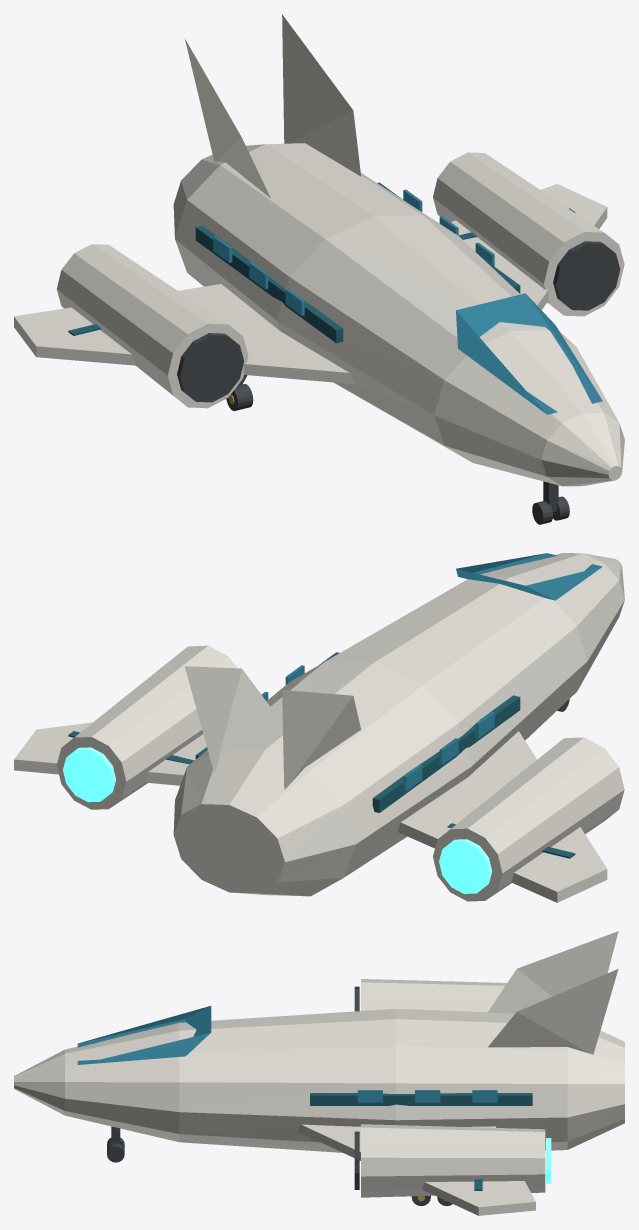
Rendered from Transport.glb.
3 renders of one model, top to bottom at view 1: azimuth 30°, elevation 25°; view 2: azimuth 150°, elevation 25°; view 3: azimuth 270°, elevation 25°, orthographic. The views are drawn at different scales.
Parts seen in each view (by area): view 1: GW Ivory, GW Metal, GW Glass Dark, GW Teal; view 2: GW Ivory, GW Light, GW Glass Dark, GW Teal; view 3: GW Ivory, GW Glass Dark, GW Teal, GW Metal.
Part boxes in pixels (x1,y1,x2,y2): GW Ivory: (14, 14, 624, 486); GW Metal: (177, 241, 620, 524); GW Glass Dark: (213, 189, 602, 414); GW Teal: (68, 182, 575, 343); GW Ivory: (14, 553, 624, 902); GW Light: (63, 747, 492, 893); GW Glass Dark: (261, 553, 602, 791); GW Teal: (68, 652, 575, 858); GW Ivory: (14, 931, 624, 1215); GW Glass Dark: (77, 1006, 497, 1102); GW Teal: (310, 1093, 532, 1190); GW Metal: (107, 986, 452, 1206).
Size of the model in its own units: 82 by 36 by 96.
